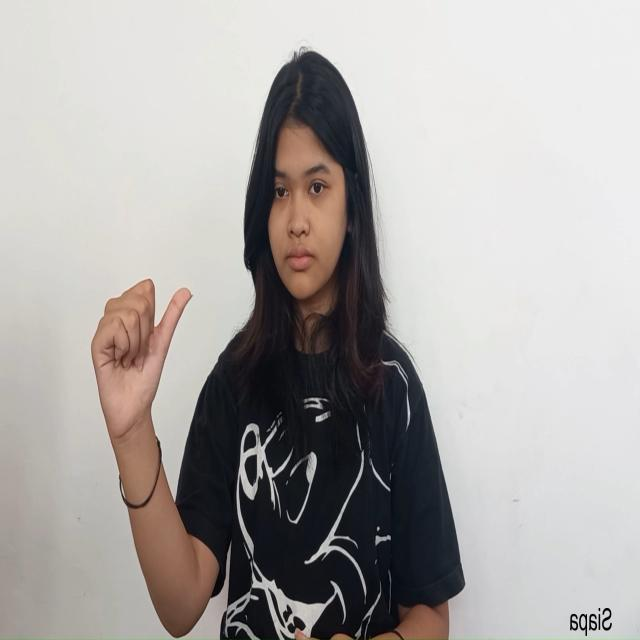Siapa -BISINDO-: (90, 276, 193, 456)
